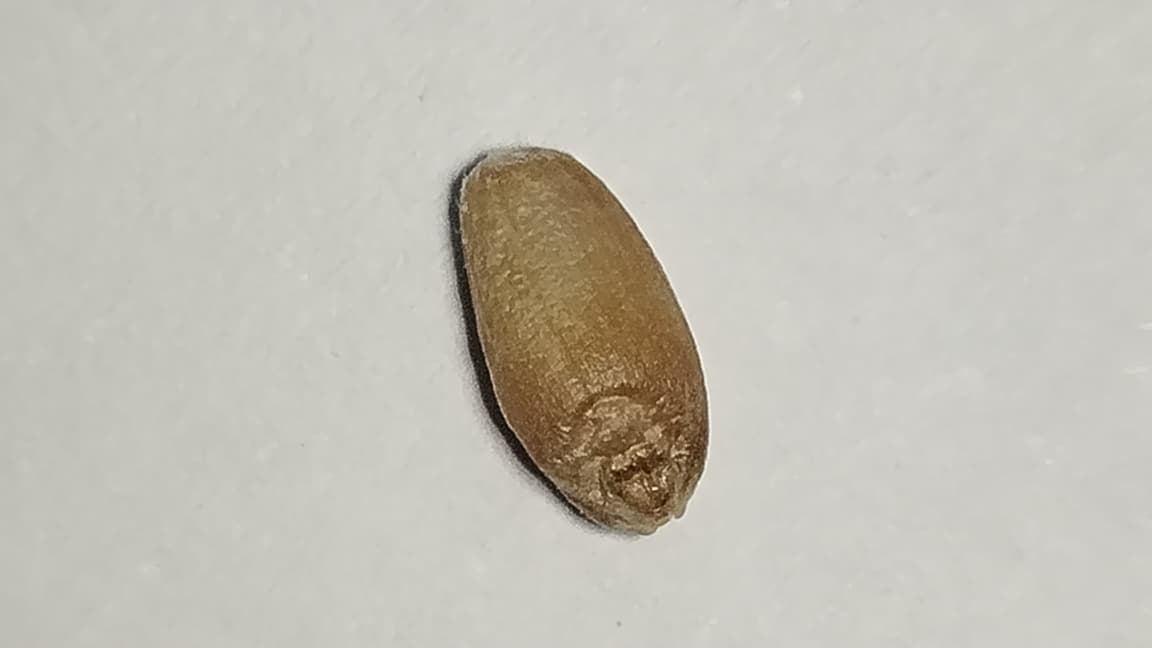healthy: (451, 143, 708, 532)
